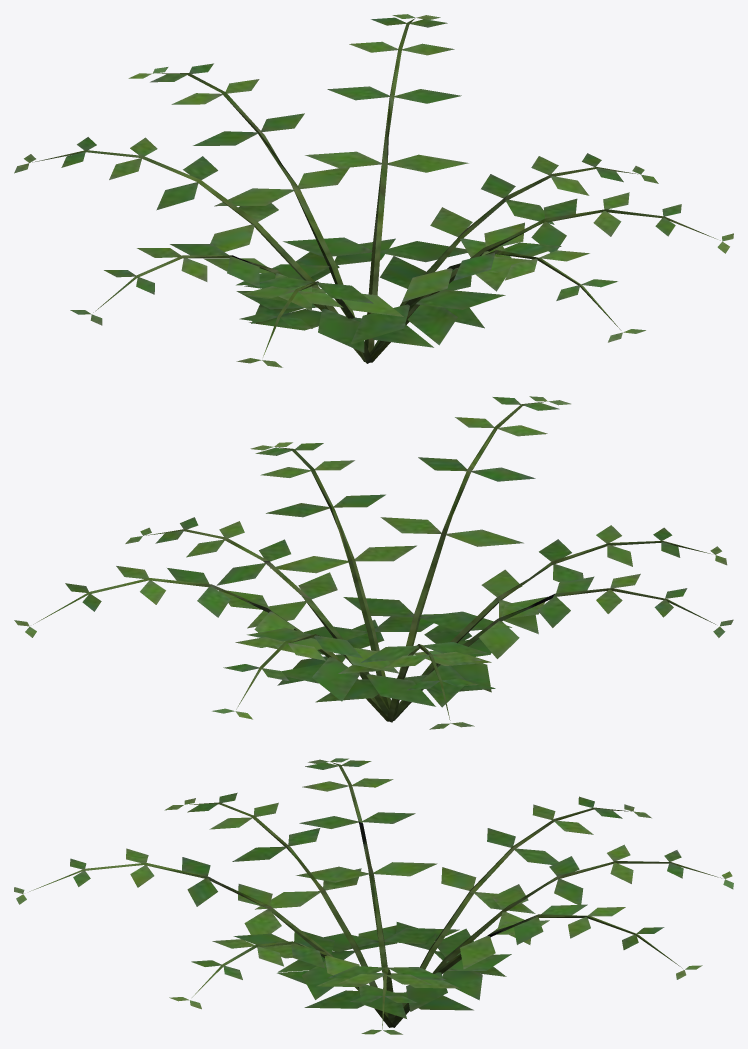
File: bg_forest_fern_1_lod1.glb
The picture shows the model from 3 angles, top to bottom: view 1: azimuth 30°, elevation 25°; view 2: azimuth 150°, elevation 25°; view 3: azimuth 270°, elevation 25°; orthographic projection. The views are drawn at different scales.
Visible parts, largest first — view 1: sway; view 2: sway; view 3: sway.
Part boxes in pixels (box(x1,y1,x2,y2)): sway: box(14, 14, 733, 367); sway: box(14, 396, 733, 729); sway: box(14, 758, 733, 1034).
Bounding box in the file's own units: 2.49 × 0.8 × 2.97.
Materials: 1 (1 with a texture image).
